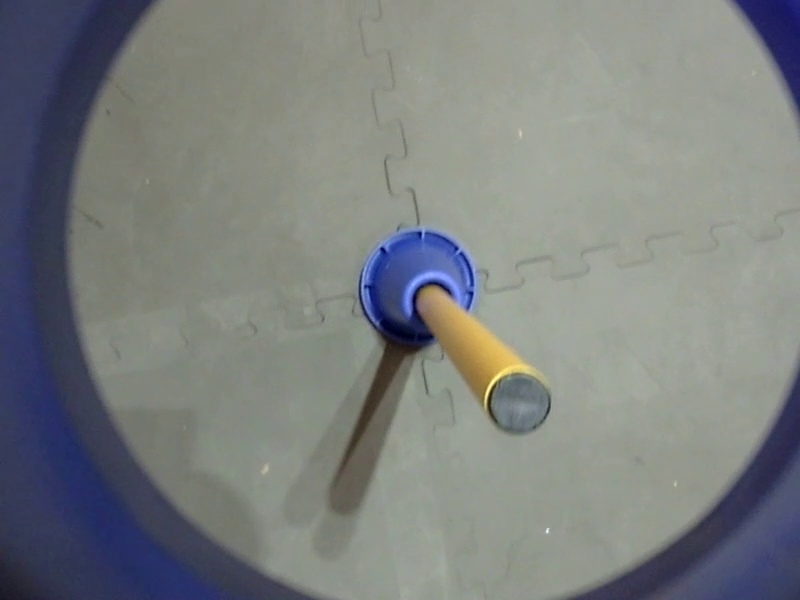tip: (479, 362, 553, 438)
